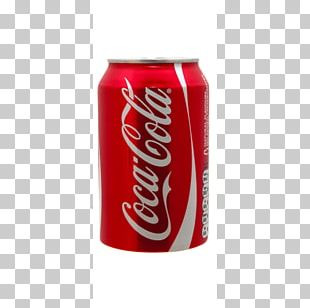coke: (99, 58, 210, 253)
